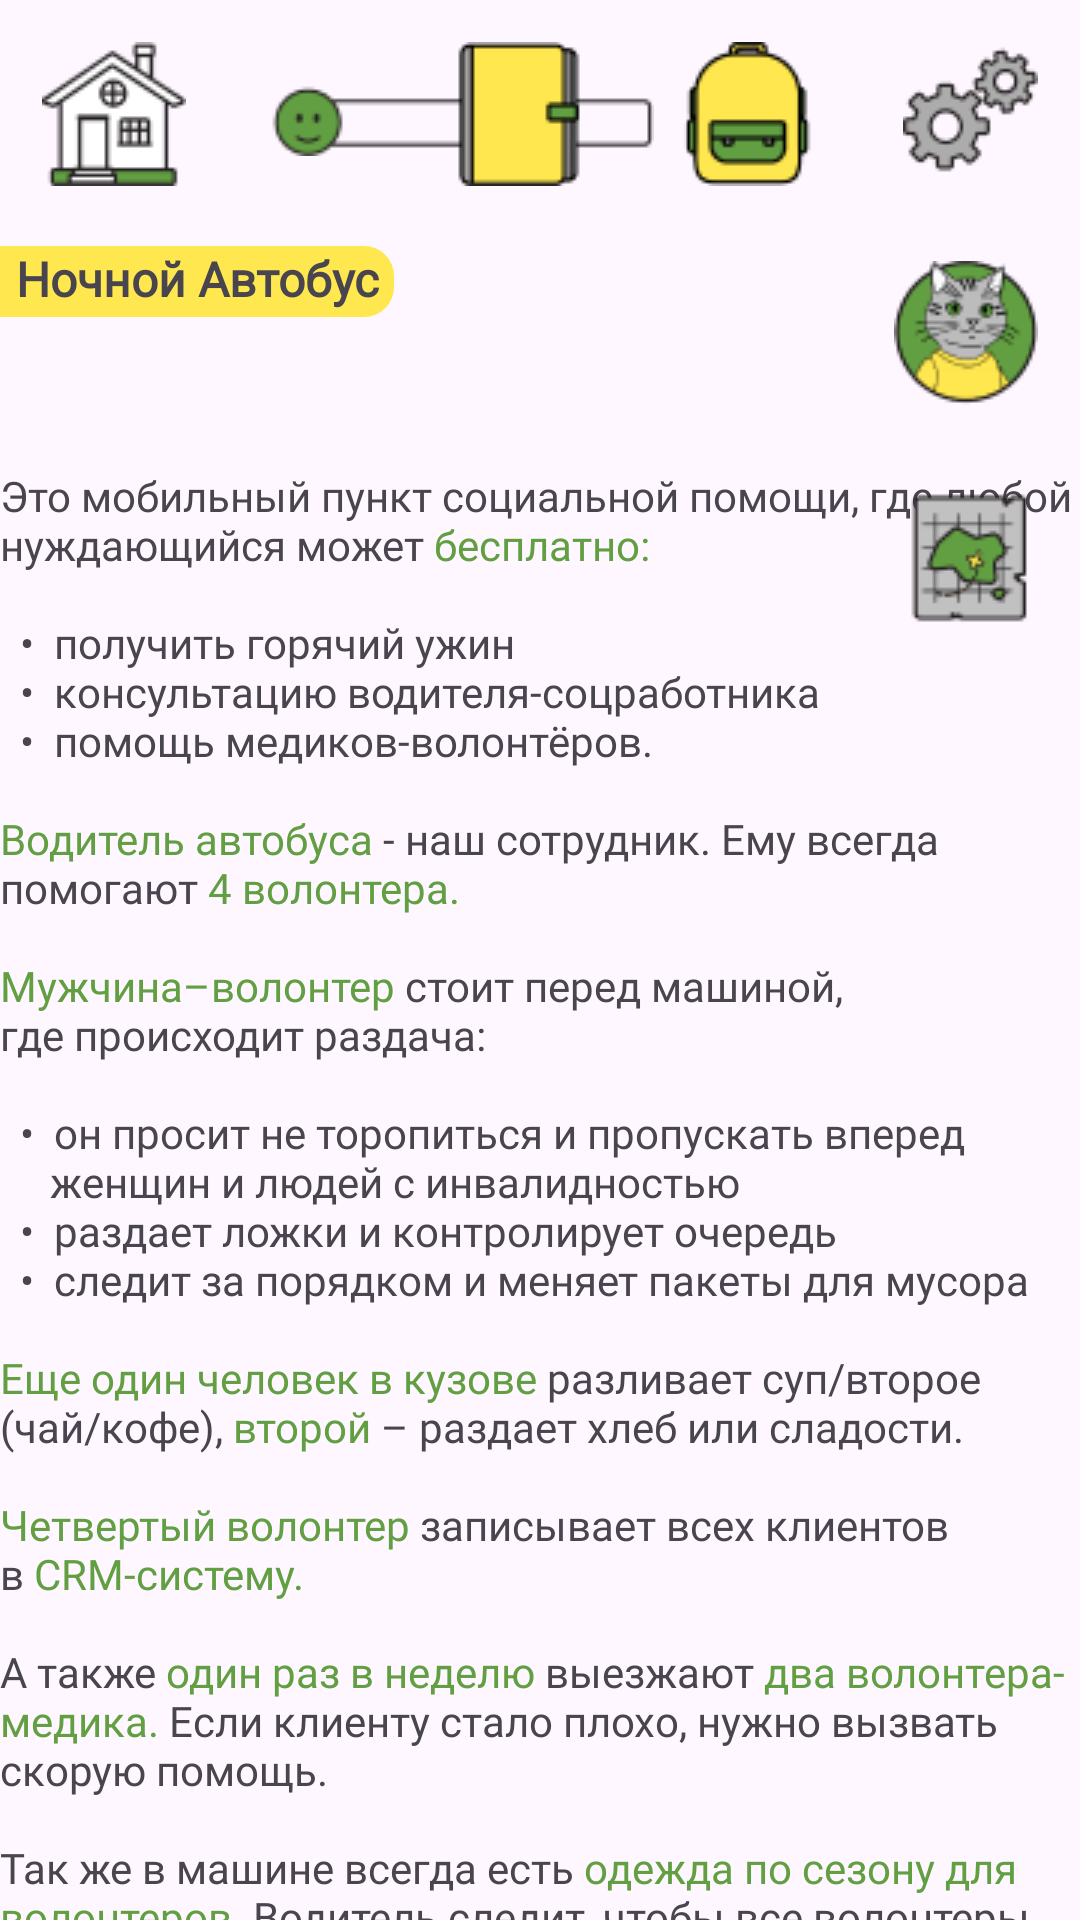

Named icons in this screenshot (1080*1920) and their bounding boxes, (x1, y1, x2, y2):
backpack: (686, 42, 810, 186)
gear wheel: (903, 48, 1038, 172)
home: (42, 42, 186, 186)
map: (903, 489, 1038, 622)
rules: (447, 42, 591, 186)
